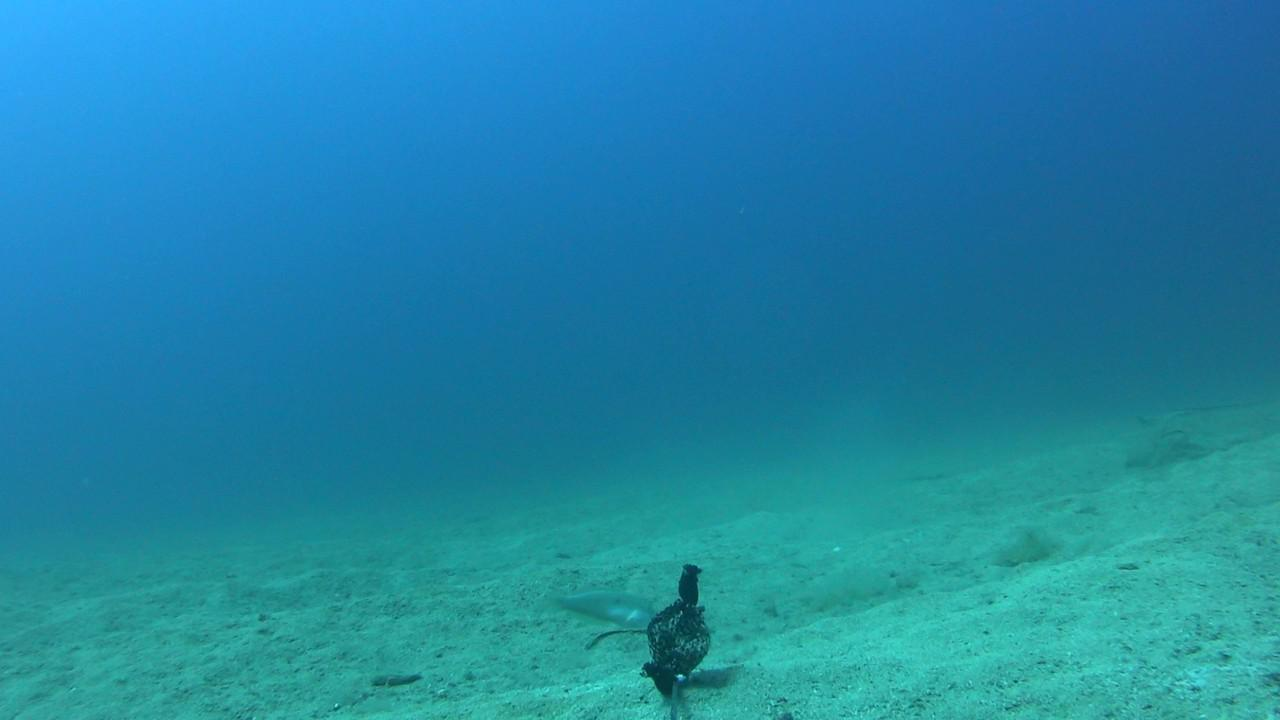myliobatis: (1103, 387, 1276, 445)
raor: (542, 587, 664, 629)
